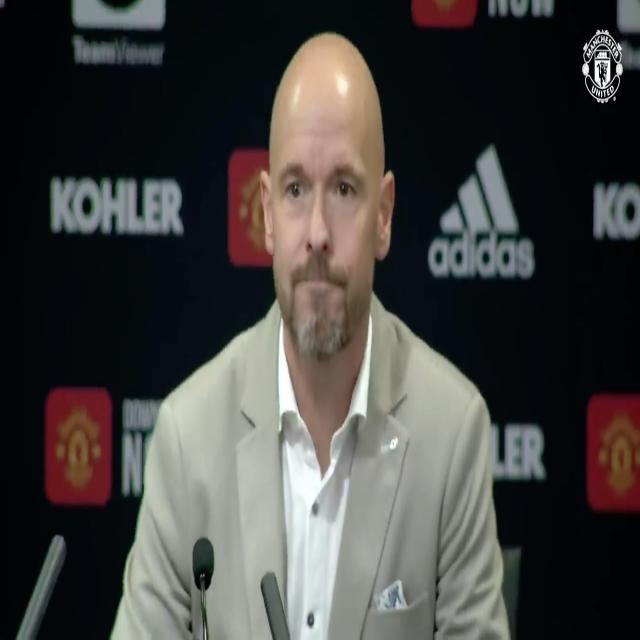Adidas: (425, 139, 536, 282)
Kohler: (50, 178, 183, 235)
TeamViewer: (73, 1, 166, 64)
